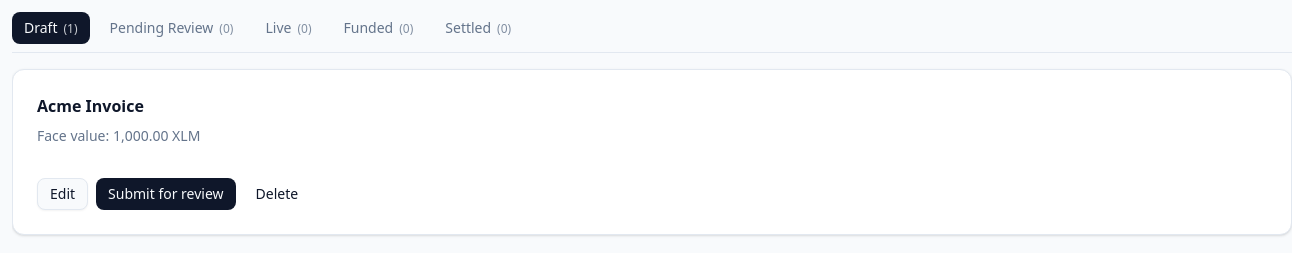
Test case: tab rendering › shows a per-tab empty state
Step 1. Click the tab "Settled(0)" → (478, 28), box [433,12,523,44]
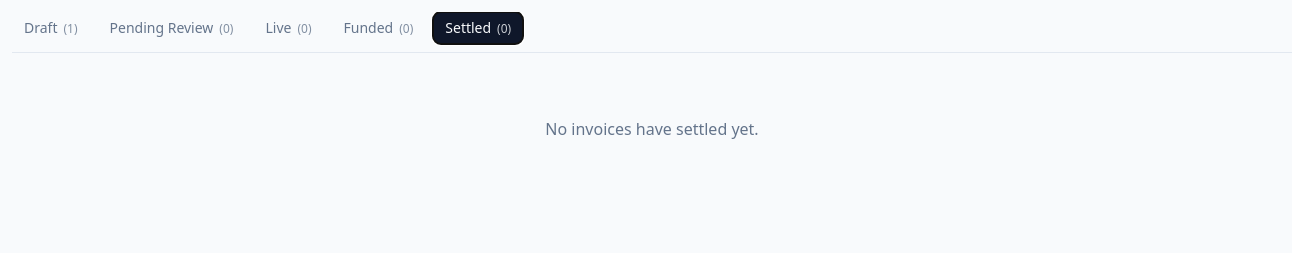
Expected: the element with test id "seller-invoices-empty" is shown, [545,118,759,140]
Expected: the text "No invoices have settled yet." is shown, [545,117,759,141]
